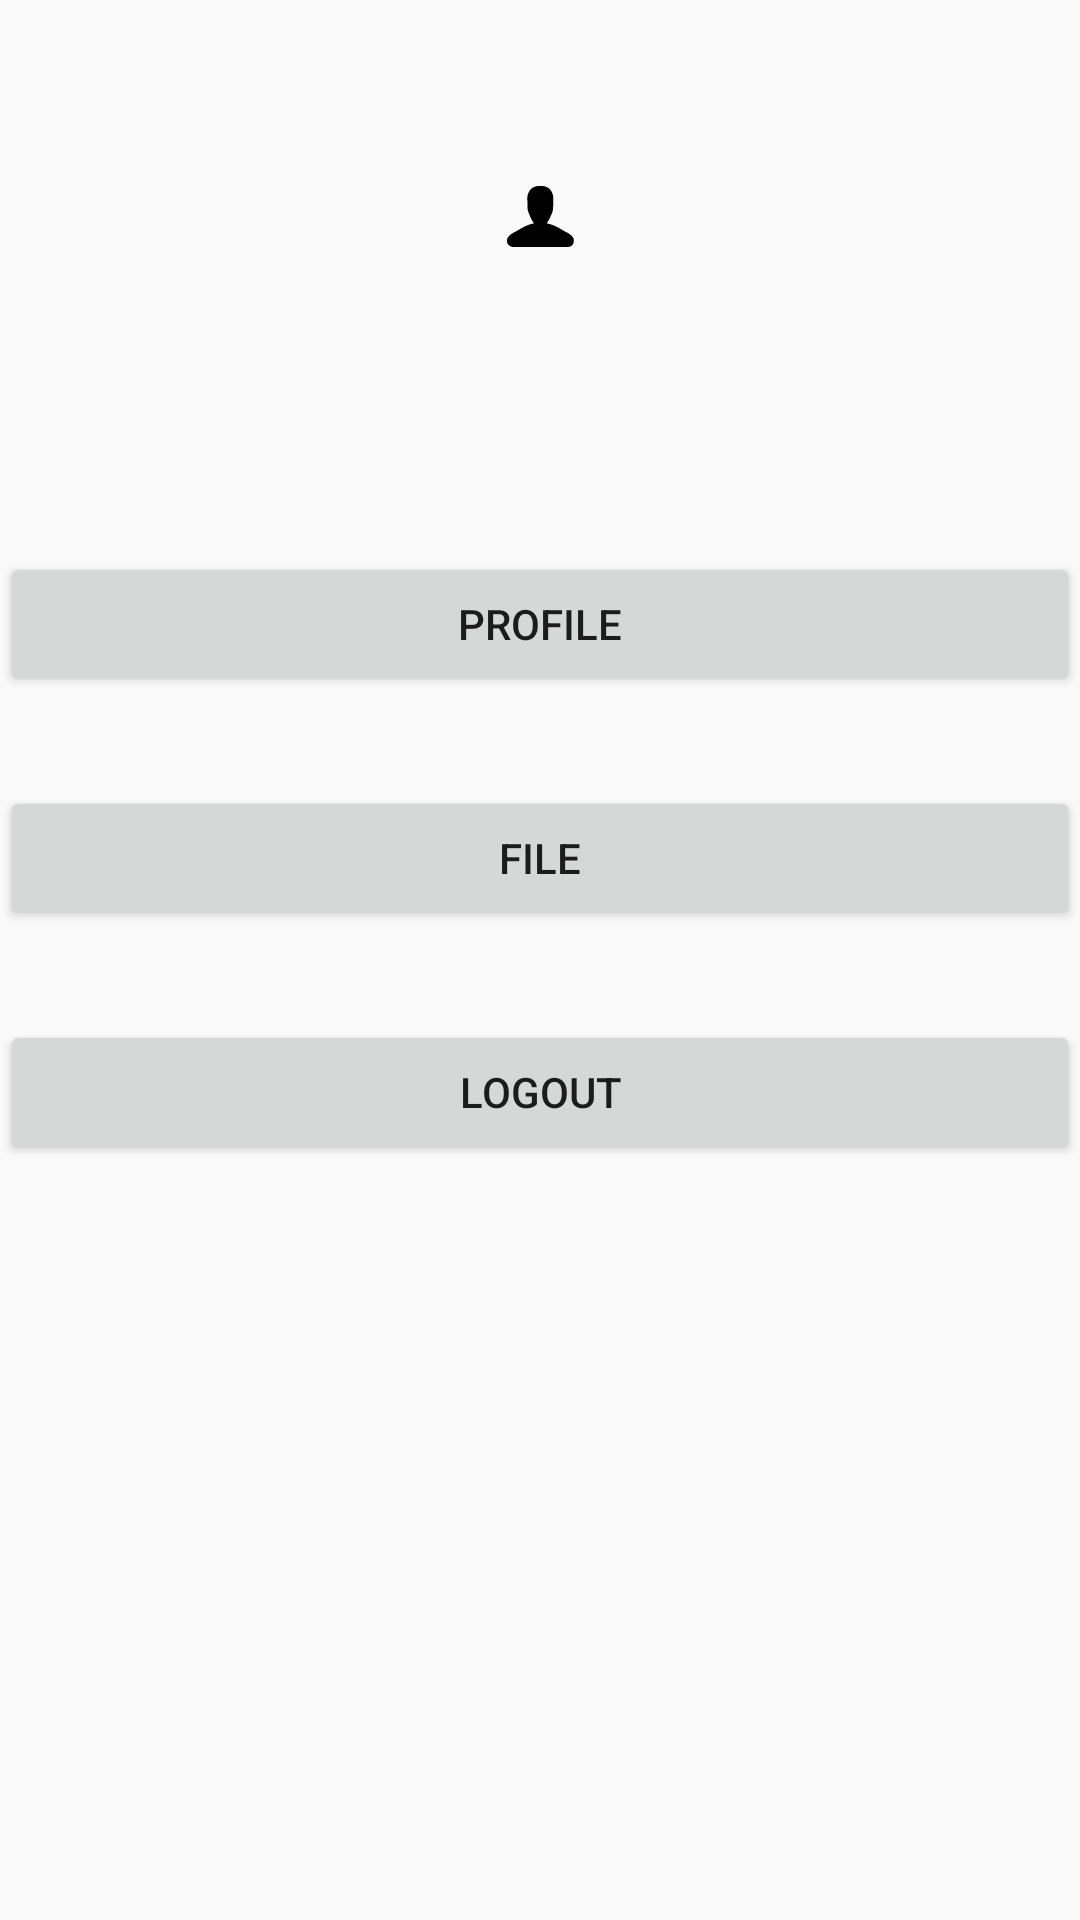

Icons on this 1080w x 1920h Android screen, each with its box as (x1, y1, x2, y2):
profile: (507, 185, 574, 247)
